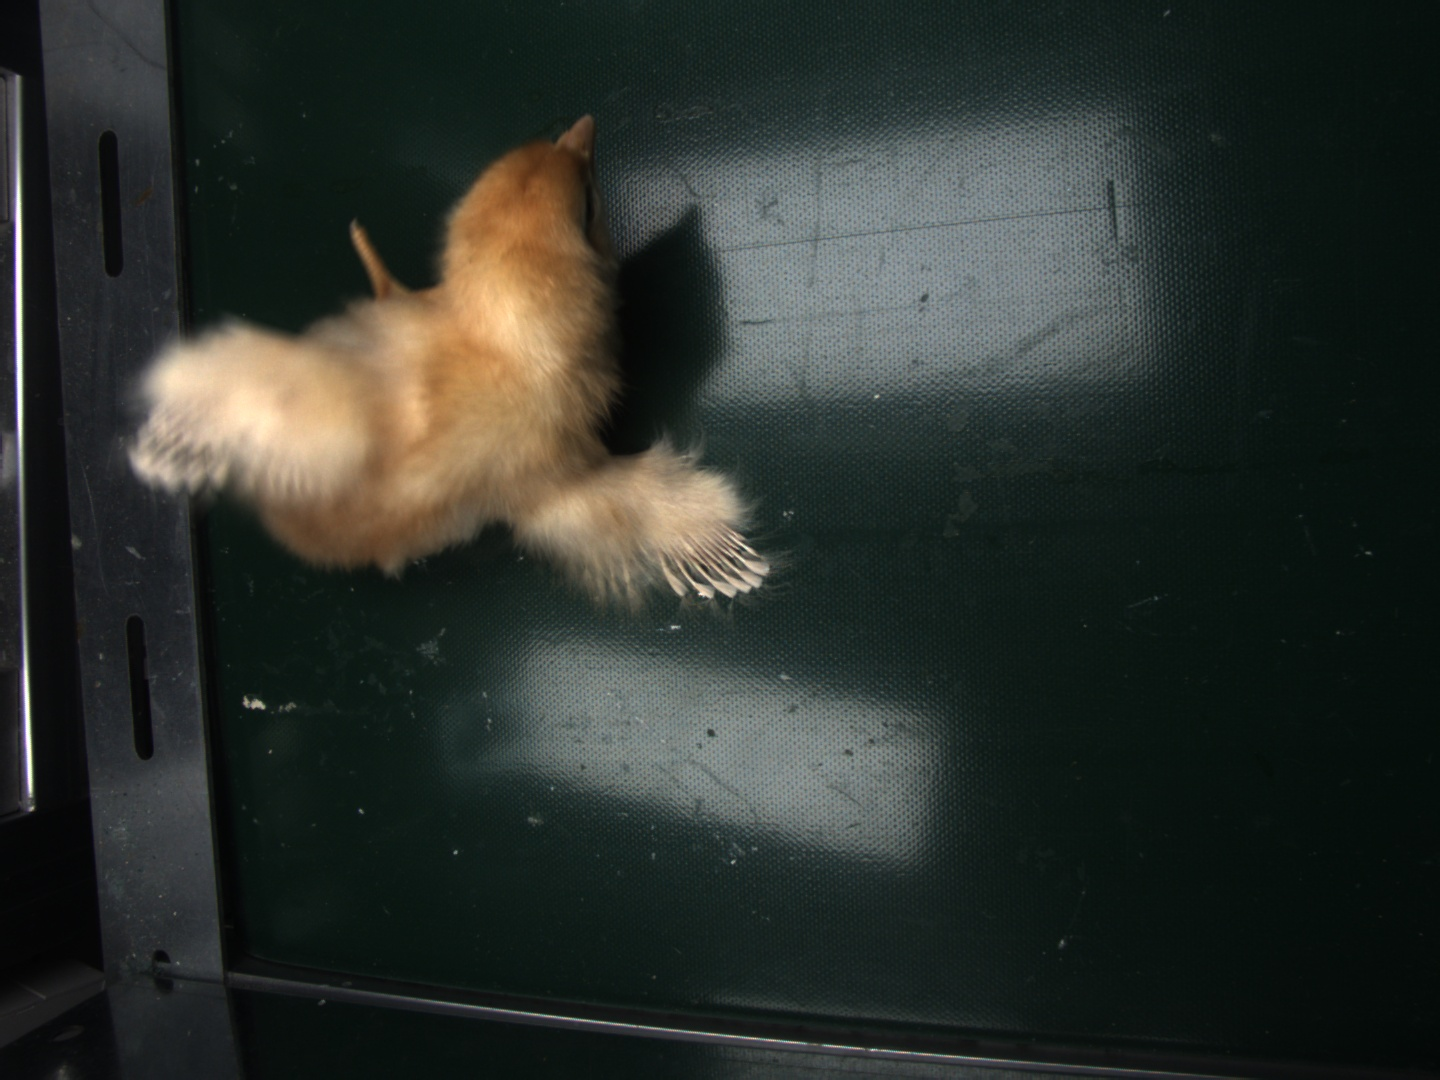female: (664, 526, 774, 606)
